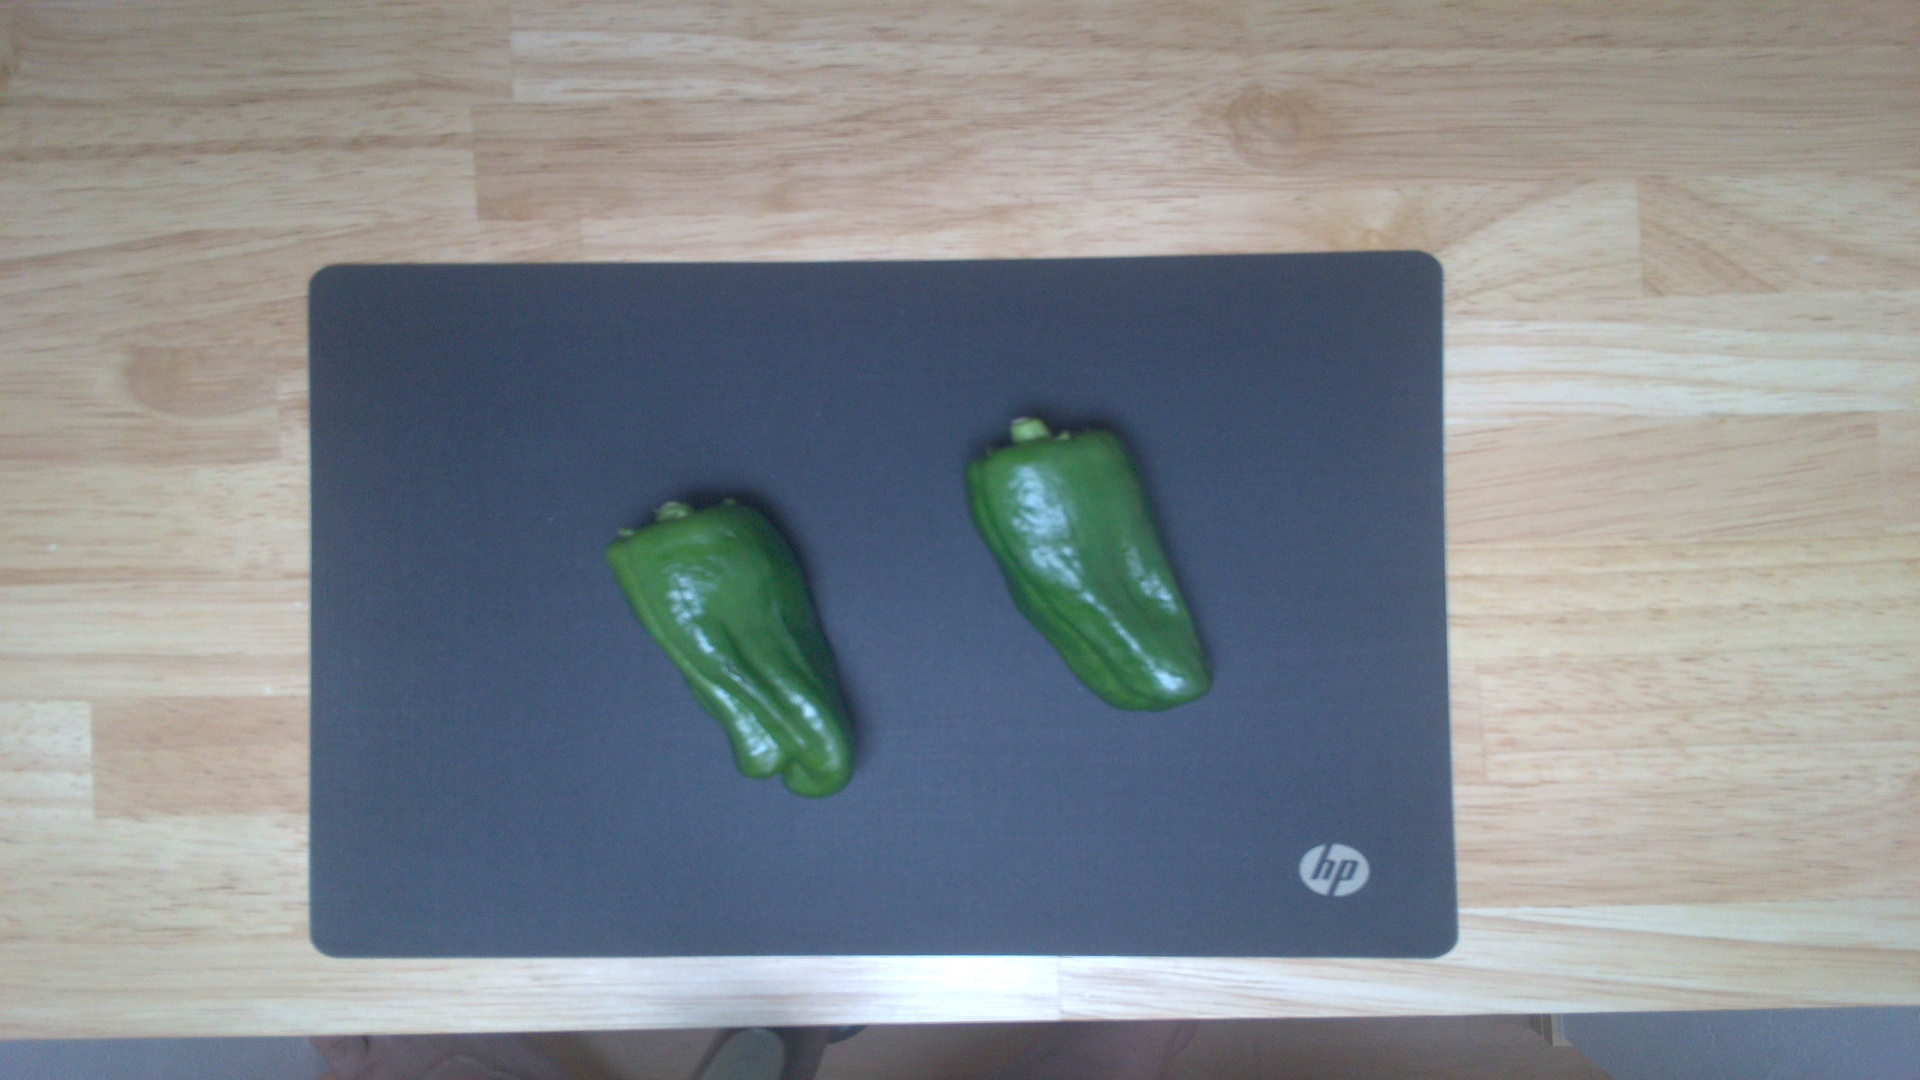Piman: (608, 489, 864, 795), (965, 419, 1215, 715)
